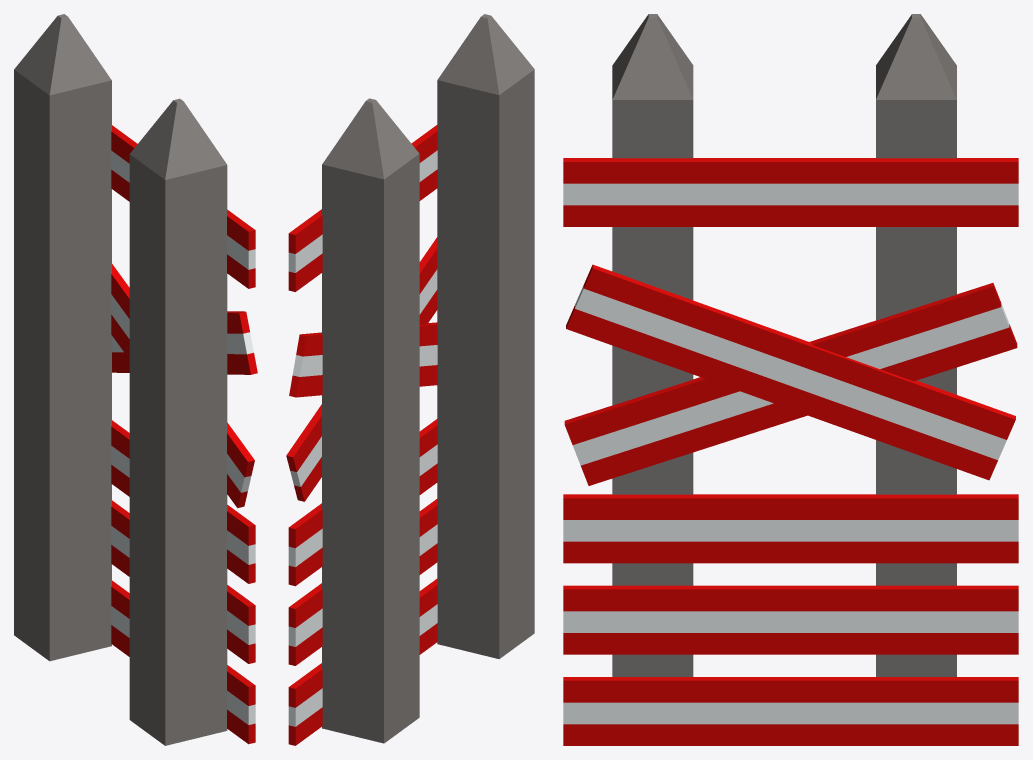
Rendered from high_obstacle1.fbx.
The picture shows the model from 3 angles, left to right: view 1: azimuth 30°, elevation 25°; view 2: azimuth 150°, elevation 25°; view 3: azimuth 270°, elevation 25°; orthographic projection. The views are drawn at different scales.
Parts seen in each view (by area): view 1: Cube.007; view 2: Cube.007; view 3: Cube.007.
Part boxes in pixels (<box>): Cube.007: <box>14,14,257,745</box>; Cube.007: <box>286,14,534,745</box>; Cube.007: <box>563,14,1018,745</box>.
Size of the model in its own units: 10.26 by 84.56 by 49.
